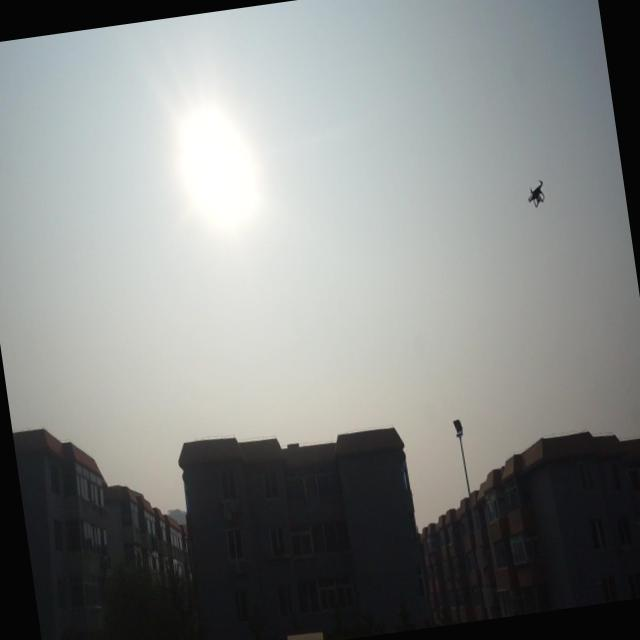drone: (524, 178, 548, 212)
